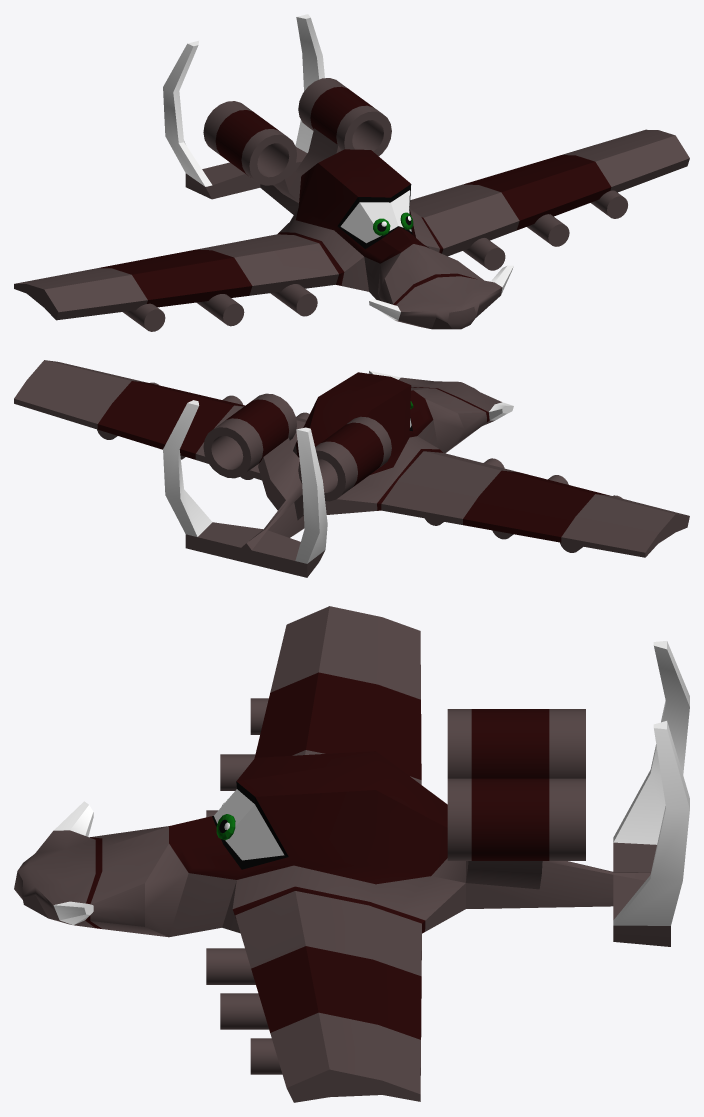
The model's file is Warthog_001.obj.
3 renders of one model, top to bottom at view 1: azimuth 30°, elevation 25°; view 2: azimuth 150°, elevation 25°; view 3: azimuth 270°, elevation 25°, orthographic. The views are drawn at different scales.
Visible parts, largest first — view 1: WartHog_Geo2; view 2: WartHog_Geo2; view 3: WartHog_Geo2.
Boxes of the visible parts, x1,y1,x2,y2 form: WartHog_Geo2: (14, 14, 689, 331); WartHog_Geo2: (14, 360, 689, 577); WartHog_Geo2: (14, 606, 689, 1102).
Bounding box in the file's own units: 11.9 × 2.79 × 7.33.
